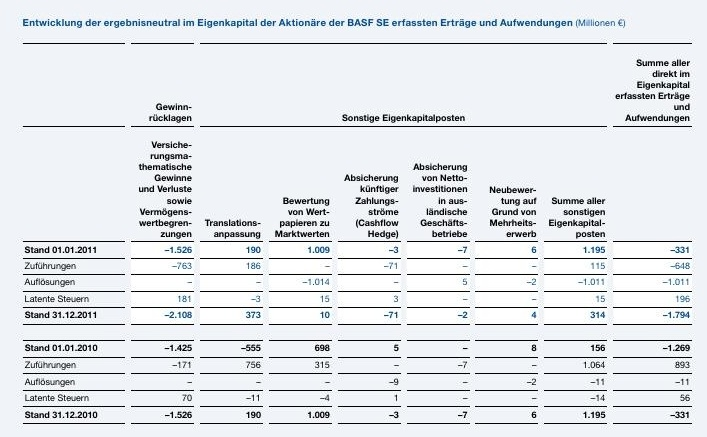table: (0, 0, 707, 437)
